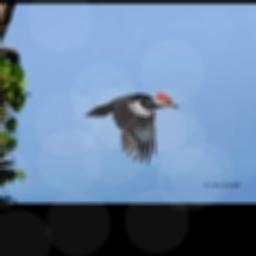Woodpecker: (83, 91, 179, 164)
